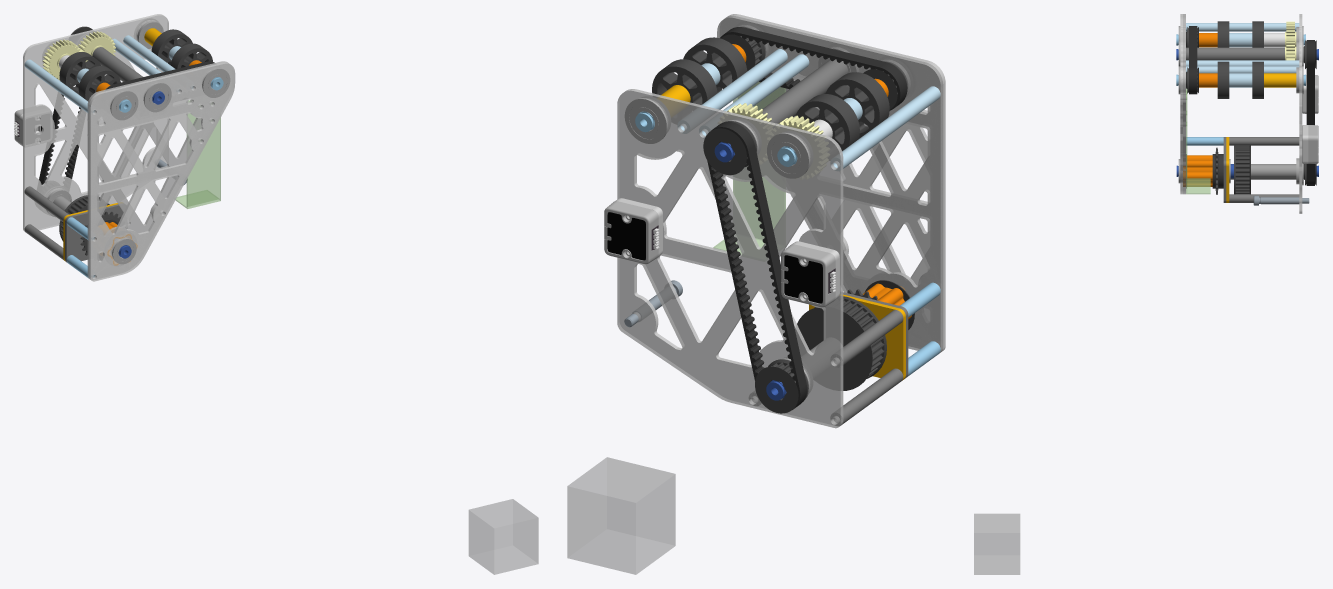
The picture shows the model from 3 angles, left to right: view 1: azimuth 30°, elevation 25°; view 2: azimuth 150°, elevation 25°; view 3: azimuth 270°, elevation 25°; orthographic projection. The views are drawn at different scales.
Visible parts, largest first — view 1: 1625-25-P-03105, 1625-25-P-03107, 1625-25-P-03104, Origin Cube, 1.625" 1/2" Hex Bore Flex Wheel (WCP-0130) (×4), 1625-25-P-03119, 1625-25-P-03102, 1625-25-P-03108, 30t 20dp Aluminum 1/2" Hex Bore Gear (217-2705), 85T 5M 9mm Wide Belt, 1625-25-P-03117; view 2: 1625-25-P-03104, 1625-25-P-03107, Origin Cube, 1.625" 1/2" Hex Bore Flex Wheel (WCP-0130) (×4), 1625-25-P-03105, 85T 5M 9mm Wide Belt, 1625-25-P-03108 (×3), 36t HTD Pulley 15.53mm Wide, 19t HTD Pulley 9.53mm Wide (×2), CanRangeHousing1 (×2), CANRangeOverlay2 (×2), 1/2" ThunderHex x 1-1/8" OD (Flanged) (×2) (+8 smaller); view 3: Origin Cube, 1625-25-P-03108 (×3), 1625-25-P-03117, 85T 5M 9mm Wide Belt, 1.625" 1/2" Hex Bore Flex Wheel (WCP-0130) (×2), 1625-25-P-03101, 36t HTD Pulley 15.53mm Wide, 1625-25-P-03104, 1625-25-P-03112, 1625-25-P-03109, 60T 5M 9mm Wide Belt, 1625-25-P-03119 (+3 smaller).
Part boxes in pixels (x1,y1,x2,y2): 1625-25-P-03105: [89, 62, 235, 281]; 1625-25-P-03107: [87, 61, 233, 279]; 1625-25-P-03104: [23, 14, 168, 231]; Origin Cube: [469, 499, 538, 574]; 1.625" 1/2" Hex Bore Flex Wheel (WCP-0130) (×4): [59, 29, 212, 101]; 1625-25-P-03119: [175, 100, 220, 208]; 1625-25-P-03102: [65, 204, 123, 262]; 1625-25-P-03108: [24, 59, 94, 113]; 30t 20dp Aluminum 1/2" Hex Bore Gear (217-2705): [42, 39, 81, 80]; 85T 5M 9mm Wide Belt: [39, 27, 92, 184]; 1625-25-P-03117: [92, 47, 142, 81]; 1625-25-P-03104: [617, 89, 843, 428]; 1625-25-P-03107: [717, 15, 943, 353]; Origin Cube: [567, 457, 675, 574]; 1.625" 1/2" Hex Bore Flex Wheel (WCP-0130) (×4): [652, 37, 889, 150]; 1625-25-P-03105: [720, 14, 945, 351]; 85T 5M 9mm Wide Belt: [707, 122, 807, 409]; 1625-25-P-03108 (×3): [677, 49, 940, 170]; 36t HTD Pulley 15.53mm Wide: [797, 296, 886, 390]; 19t HTD Pulley 9.53mm Wide (×2): [703, 121, 808, 413]; CanRangeHousing1 (×2): [604, 201, 835, 307]; CANRangeOverlay2 (×2): [607, 212, 822, 303]; 1/2" ThunderHex x 1-1/8" OD (Flanged) (×2): [624, 98, 810, 178]; Origin Cube: [974, 514, 1019, 574]; 1625-25-P-03108 (×3): [1186, 23, 1299, 73]; 1625-25-P-03117: [1186, 47, 1284, 60]; 85T 5M 9mm Wide Belt: [1306, 40, 1314, 185]; 1.625" 1/2" Hex Bore Flex Wheel (WCP-0130) (×2): [1217, 61, 1263, 98]; 1625-25-P-03101: [1183, 155, 1212, 186]; 36t HTD Pulley 15.53mm Wide: [1234, 145, 1250, 194]; 1625-25-P-03104: [1299, 14, 1302, 213]; 1625-25-P-03112: [1251, 164, 1296, 178]; 1625-25-P-03109: [1229, 137, 1299, 145]; 60T 5M 9mm Wide Belt: [1189, 26, 1197, 94]; 1625-25-P-03119: [1186, 88, 1210, 194].
Bounding box in the file's own units: 0.3833 × 0.5101 × 0.3794.
